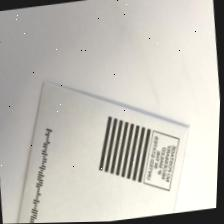paper: (0, 53, 201, 224)
